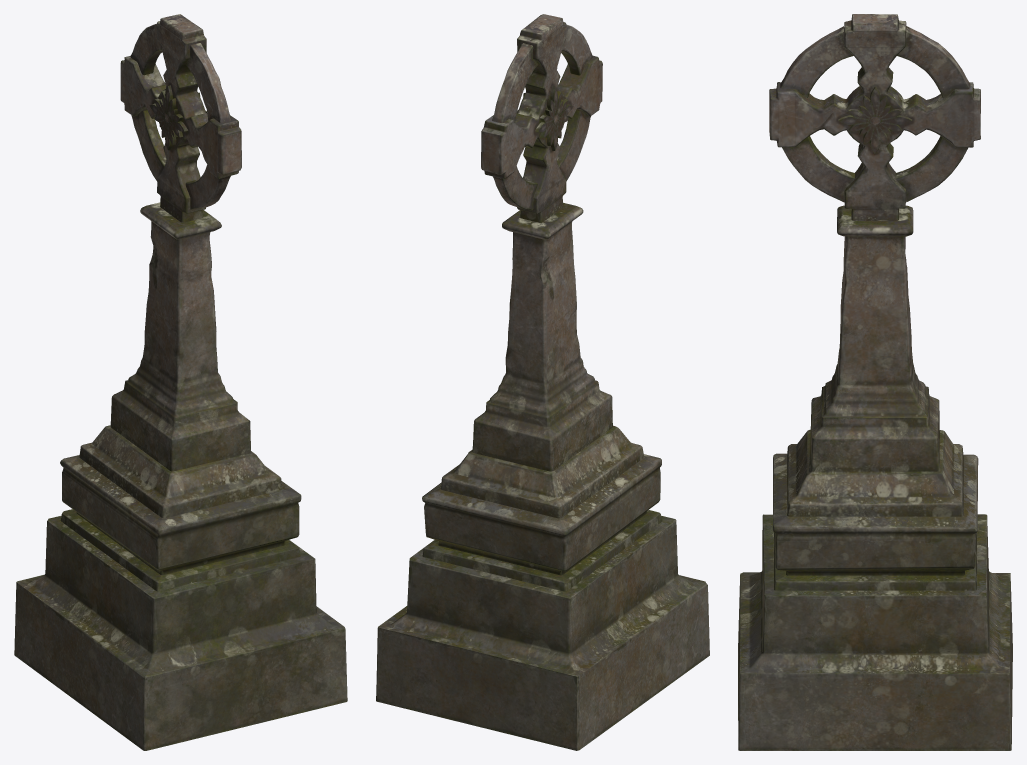
Rendered from SM_TombsB.fbx.
3 views of the same model, side by side, from view 1: azimuth 30°, elevation 25°; view 2: azimuth 150°, elevation 25°; view 3: azimuth 270°, elevation 25° (orthographic). The views are drawn at different scales.
Parts seen in each view (by area): view 1: SM_TombsB_LOD0; view 2: SM_TombsB_LOD0; view 3: SM_TombsB_LOD0.
Part boxes in pixels (x1,y1,x2,y2): SM_TombsB_LOD0: [14, 14, 347, 750]; SM_TombsB_LOD0: [376, 14, 709, 750]; SM_TombsB_LOD0: [738, 14, 1012, 750].
Bounding box in the file's own units: 52.7 × 59.07 × 161.
1 material, 1 textured.
